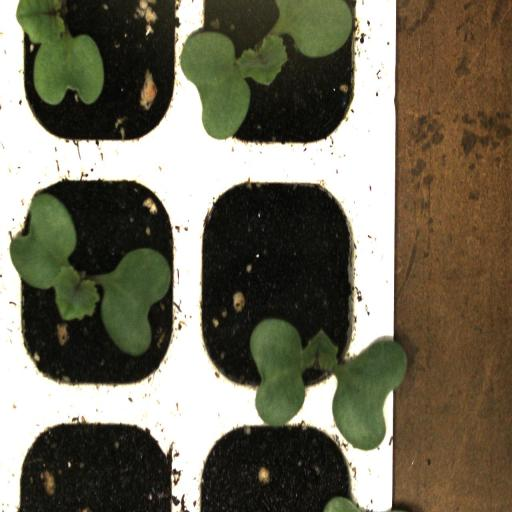Folha: (249, 318, 407, 451), (16, 0, 104, 106)
Germinacao: (188, 163, 368, 406), (13, 160, 185, 404), (192, 0, 364, 159)
